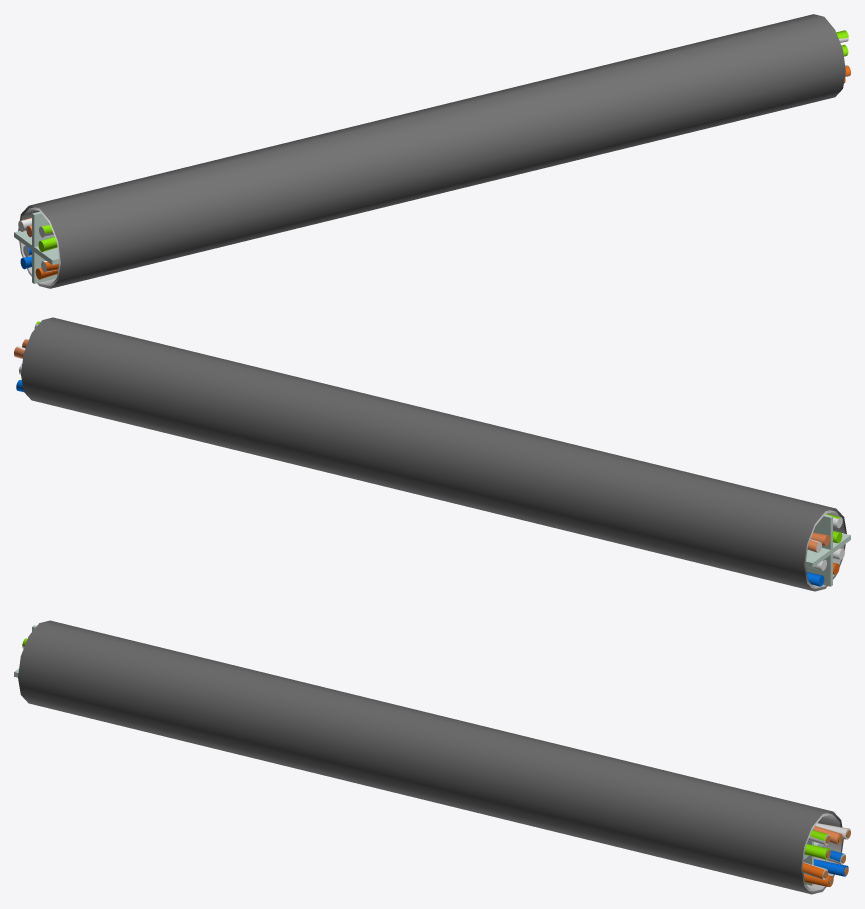
The model's file is CableDemo.glb.
The picture shows the model from 3 angles, top to bottom: view 1: azimuth 30°, elevation 25°; view 2: azimuth 150°, elevation 25°; view 3: azimuth 330°, elevation 25°; orthographic projection.
Visible parts, largest first — view 1: OuterCoat, Cube.031; view 2: OuterCoat, Cube.031; view 3: OuterCoat, Shield.
Part boxes in pixels (<box>): OuterCoat: <box>18,14,845,288</box>; Cube.031: <box>14,211,59,283</box>; OuterCoat: <box>21,317,846,591</box>; Cube.031: <box>805,514,850,586</box>; OuterCoat: <box>18,620,843,894</box>; Shield: <box>801,813,842,891</box>.
Size of the model in its own units: 0.2266 by 0.021 by 0.0209.
